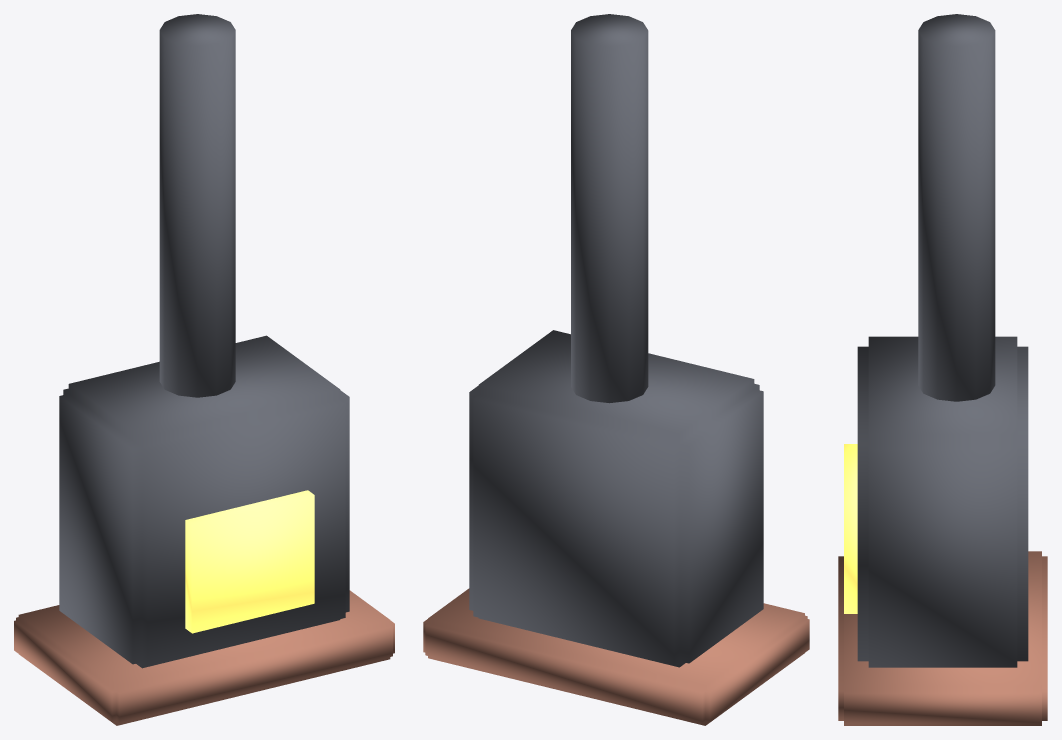
Rendered from hearth-stove.glb.
The picture shows the model from 3 angles, left to right: view 1: azimuth 30°, elevation 25°; view 2: azimuth 150°, elevation 25°; view 3: azimuth 270°, elevation 25°; orthographic projection.
Parts seen in each view (by area): view 1: HearthStove; view 2: HearthStove; view 3: HearthStove.
Part boxes in pixels (x1=…): HearthStove: x1=14, y1=14, x2=394, y2=725; HearthStove: x1=423, y1=14, x2=809, y2=725; HearthStove: x1=838, y1=14, x2=1047, y2=725.
Bounding box in the file's own units: 1.2 × 2.52 × 0.76.
